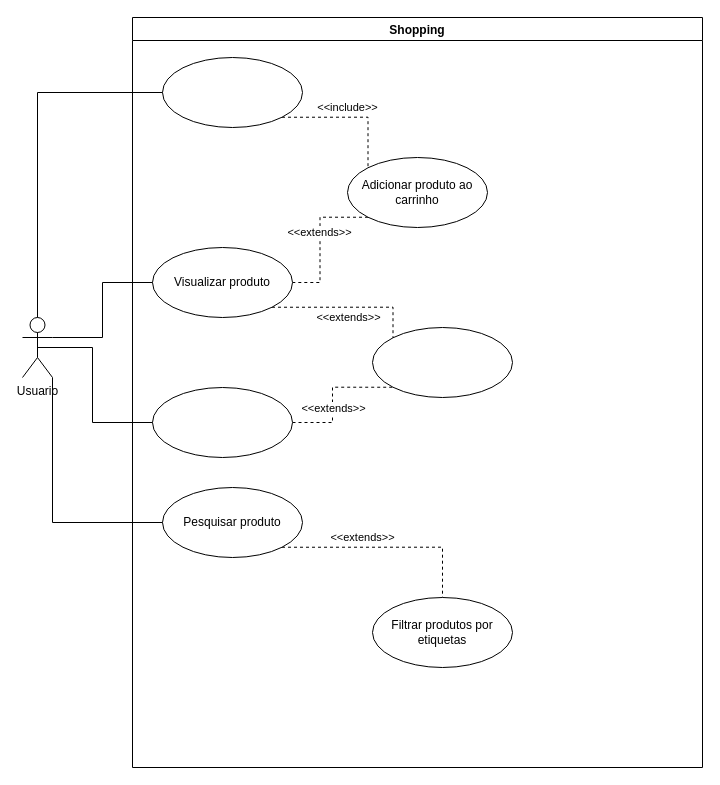
This 720x785 diagram has some shape labels left out. Each missing label, with the centre of its shape:
Adicionar produtos ao favoritos: the point at 442,362
Gerenciar carrinho de compras: the point at 232,92
Gerenciar favoritos: the point at 222,422
